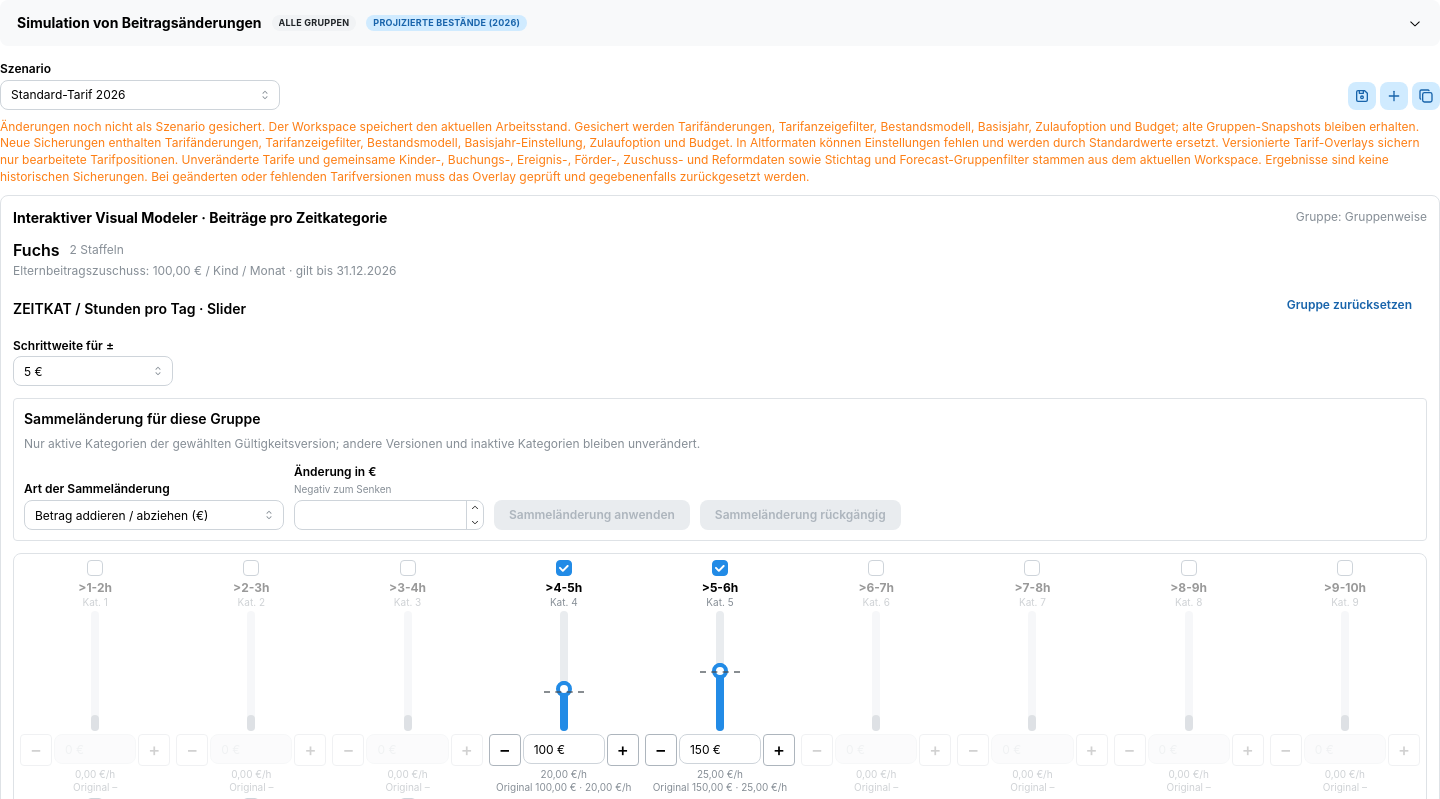
Test case: FundingSimulationPanel › uses only the selected scenario’s forecast event status
Earlier steps of the test are not shown.
Step 1. Click the button "Simulation von Beitragsänderungen" → (139,22), box [1,1,1439,45]
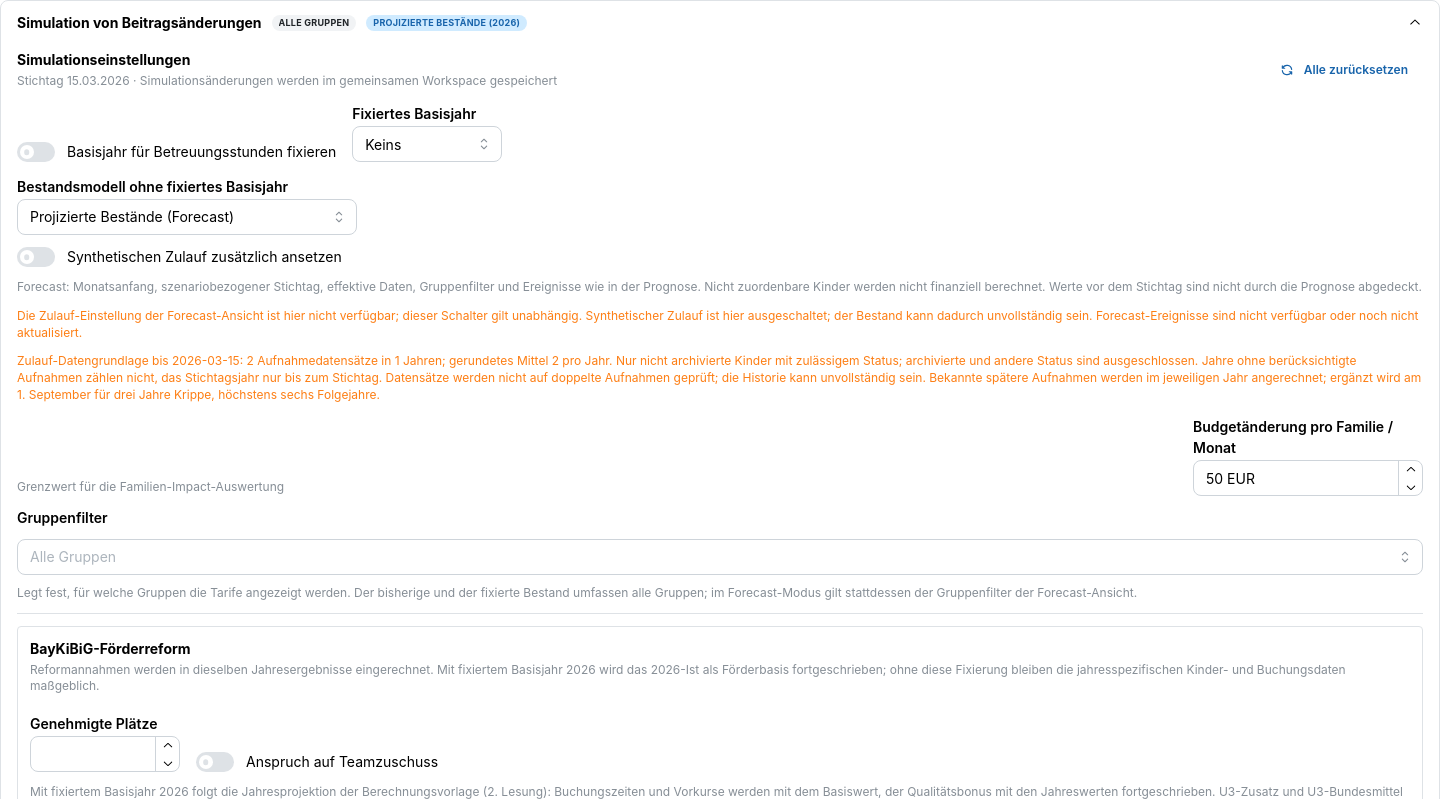
Check: the text with test id "forecast-configuration-notice" shows "Forecast-Ereignisse sind nicht verfügbar", box [17,308,1418,340]
